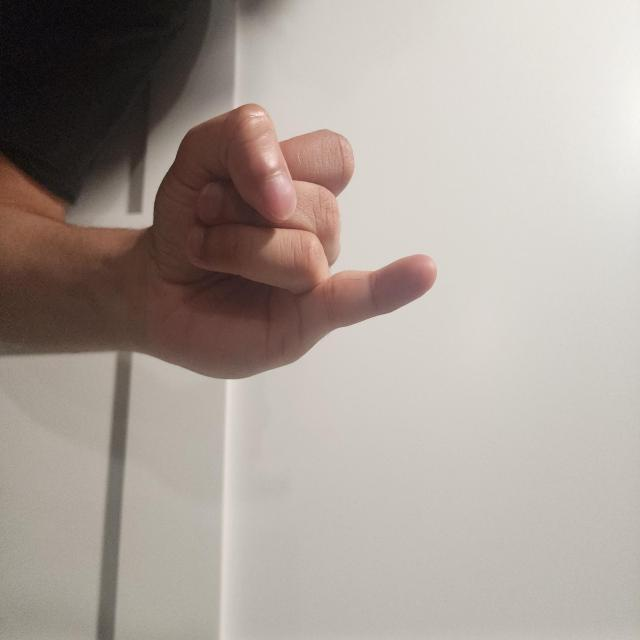I: (231, 263, 450, 640)
